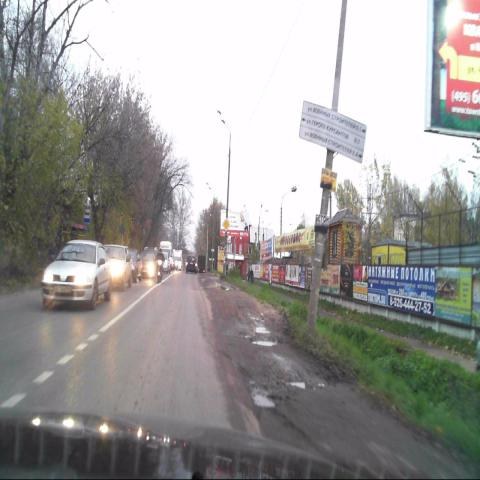2_1: (222, 217, 230, 231)
